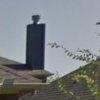Chimney: (19, 7, 58, 69)
